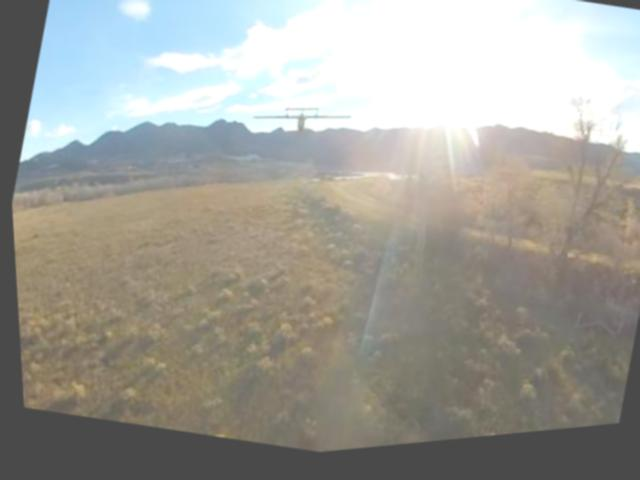uav: (247, 88, 355, 158)
